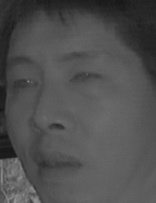eye: (69, 69, 104, 88), (10, 75, 39, 94)
mouth: (29, 145, 87, 178)
